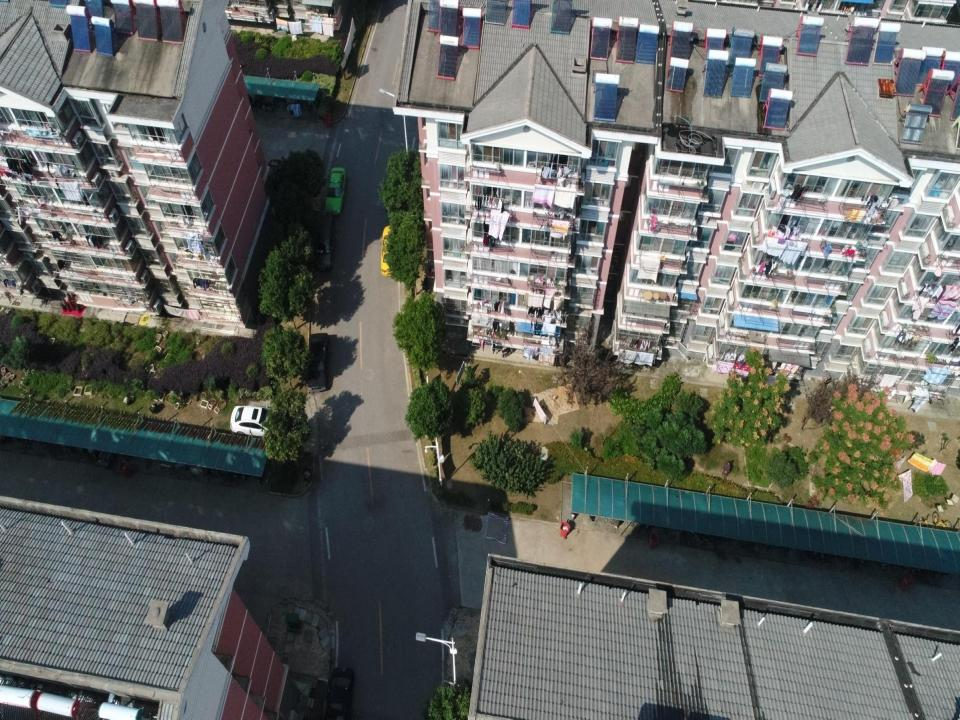car: (229, 405, 280, 441), (305, 332, 331, 392), (326, 666, 354, 720), (380, 224, 401, 278), (323, 166, 346, 214), (265, 159, 288, 177)
van: (312, 213, 336, 271)
